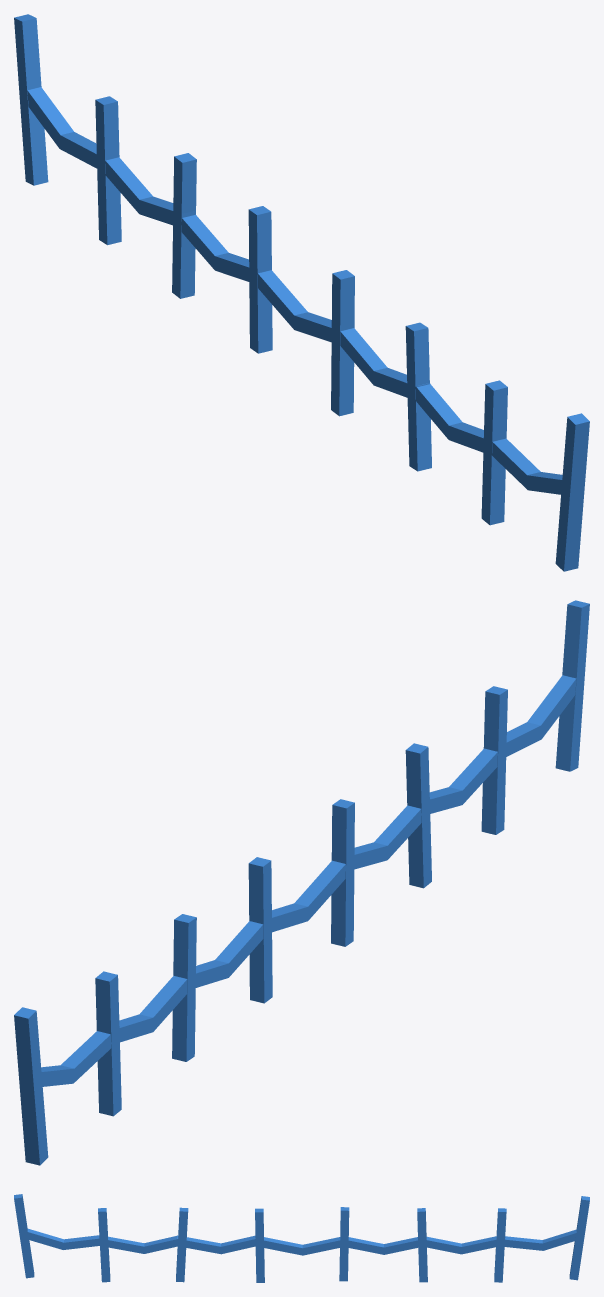
The model's file is Collision_Roof_Spikes10.fbx.
The picture shows the model from 3 angles, top to bottom: view 1: azimuth 30°, elevation 25°; view 2: azimuth 150°, elevation 25°; view 3: azimuth 270°, elevation 25°; orthographic projection. The views are drawn at different scales.
Parts seen in each view (by area): view 1: UCX_Roof_Spikes10_01; view 2: UCX_Roof_Spikes10_01; view 3: UCX_Roof_Spikes10_01.
Boxes of the visible parts, <box> form: UCX_Roof_Spikes10_01: <box>14,14,589,571</box>; UCX_Roof_Spikes10_01: <box>14,600,589,1165</box>; UCX_Roof_Spikes10_01: <box>14,1194,589,1282</box>.
Size of the model in its own units: 14.41 by 159 by 972.
